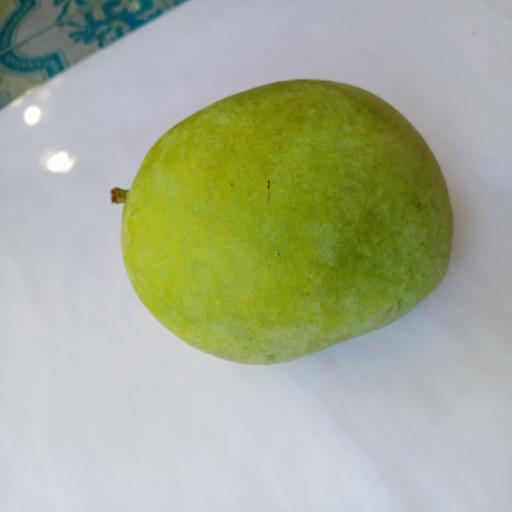mango-unripe: (98, 76, 479, 376)
